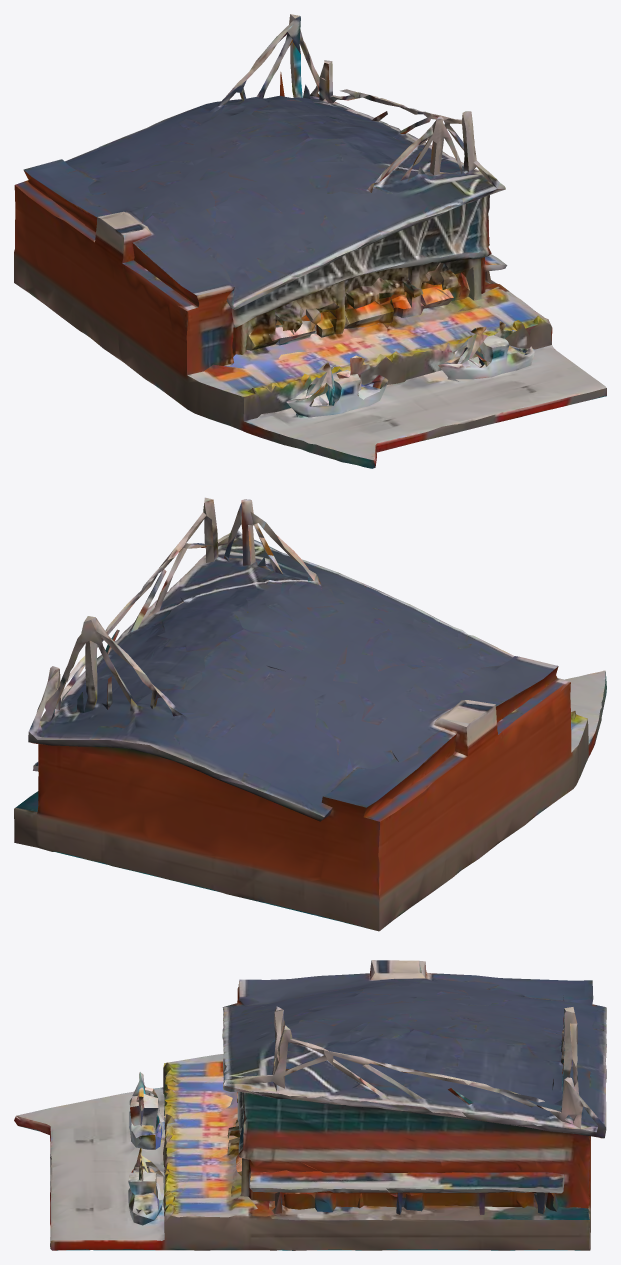
The model's file is karato-market.glb.
3 views of the same model, one above another, from view 1: azimuth 30°, elevation 25°; view 2: azimuth 150°, elevation 25°; view 3: azimuth 270°, elevation 25° (orthographic). The views are drawn at different scales.
Visible parts, largest first — view 1: logan-textured.obj; view 2: logan-textured.obj; view 3: logan-textured.obj.
Part boxes in pixels (<box>): logan-textured.obj: <box>14,14,606,468</box>; logan-textured.obj: <box>14,497,606,931</box>; logan-textured.obj: <box>14,960,606,1250</box>.
Bounding box in the file's own units: 0.6557 × 0.4003 × 1.
1 material, 1 textured.
